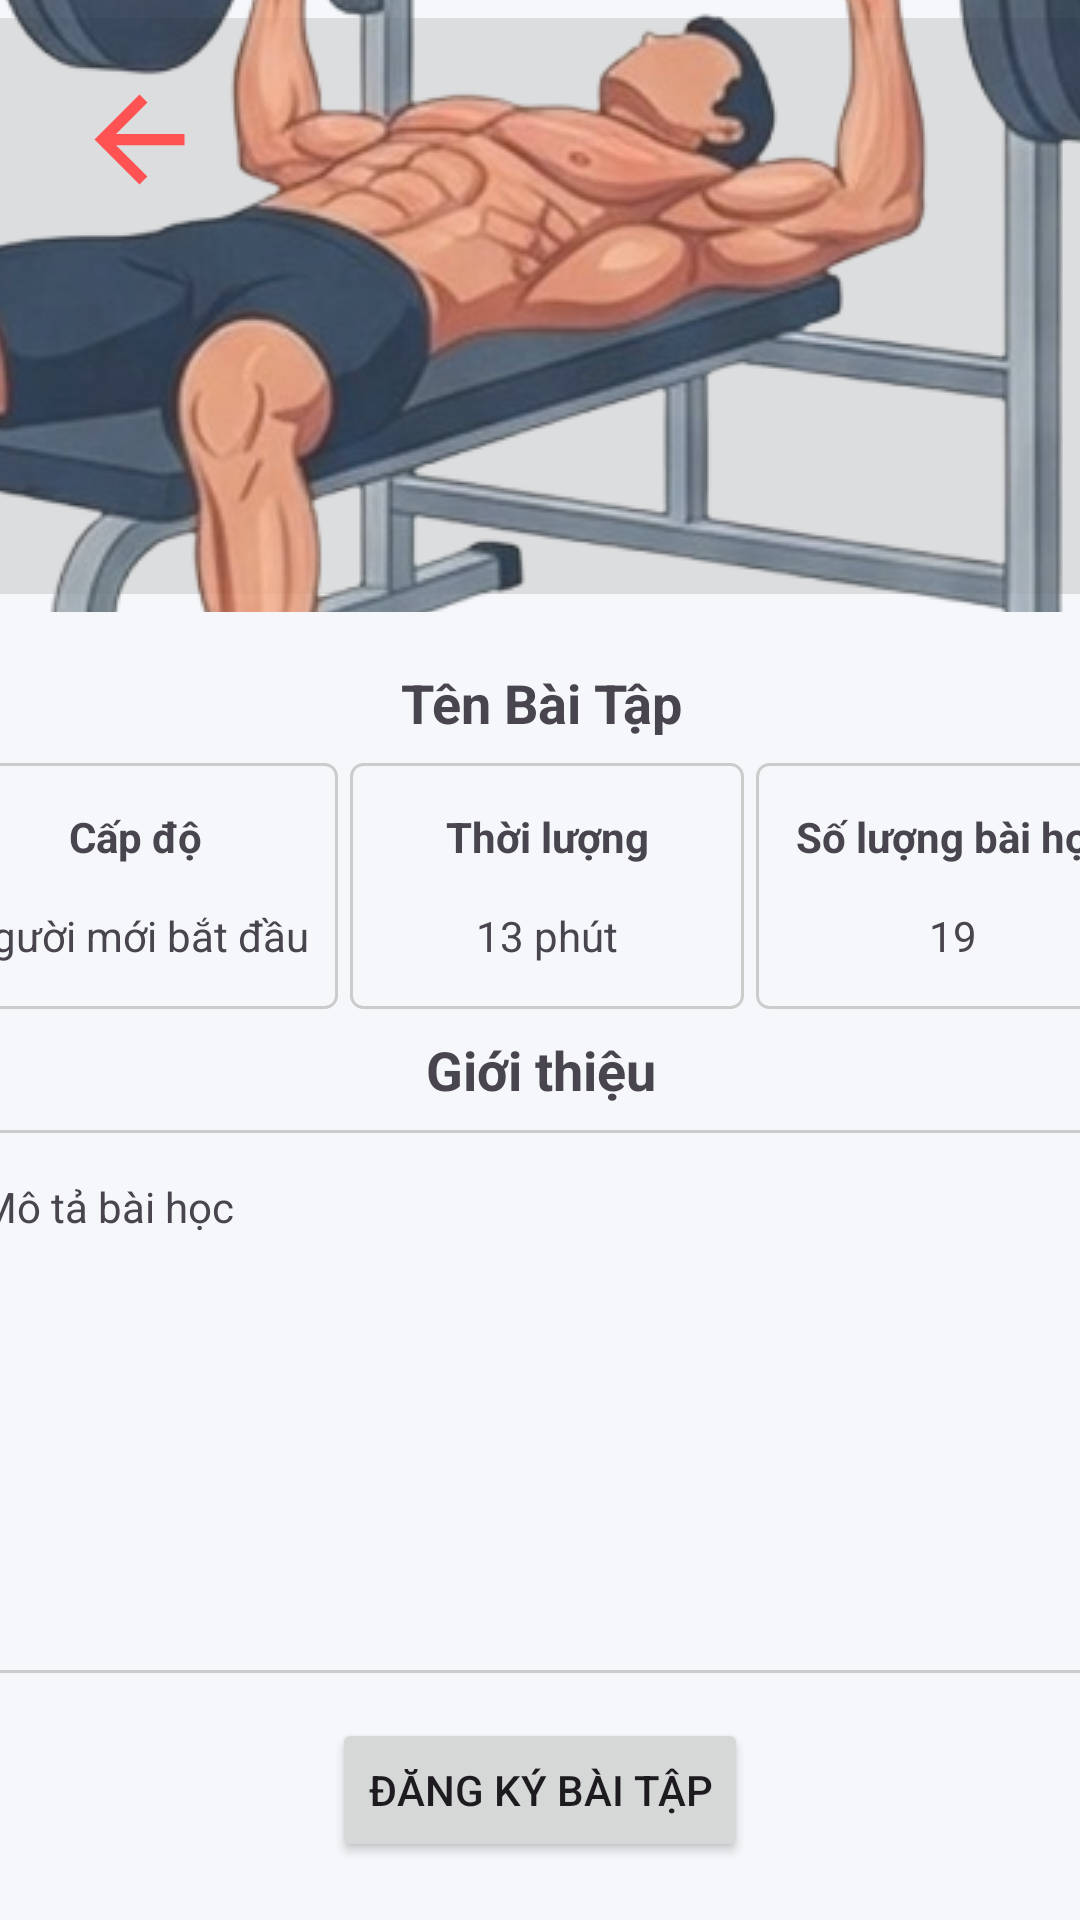

Icons on this 1080×1920 Android screen, each with its box as (x1, y1, x2, y2):
back: (94, 94, 185, 185)
